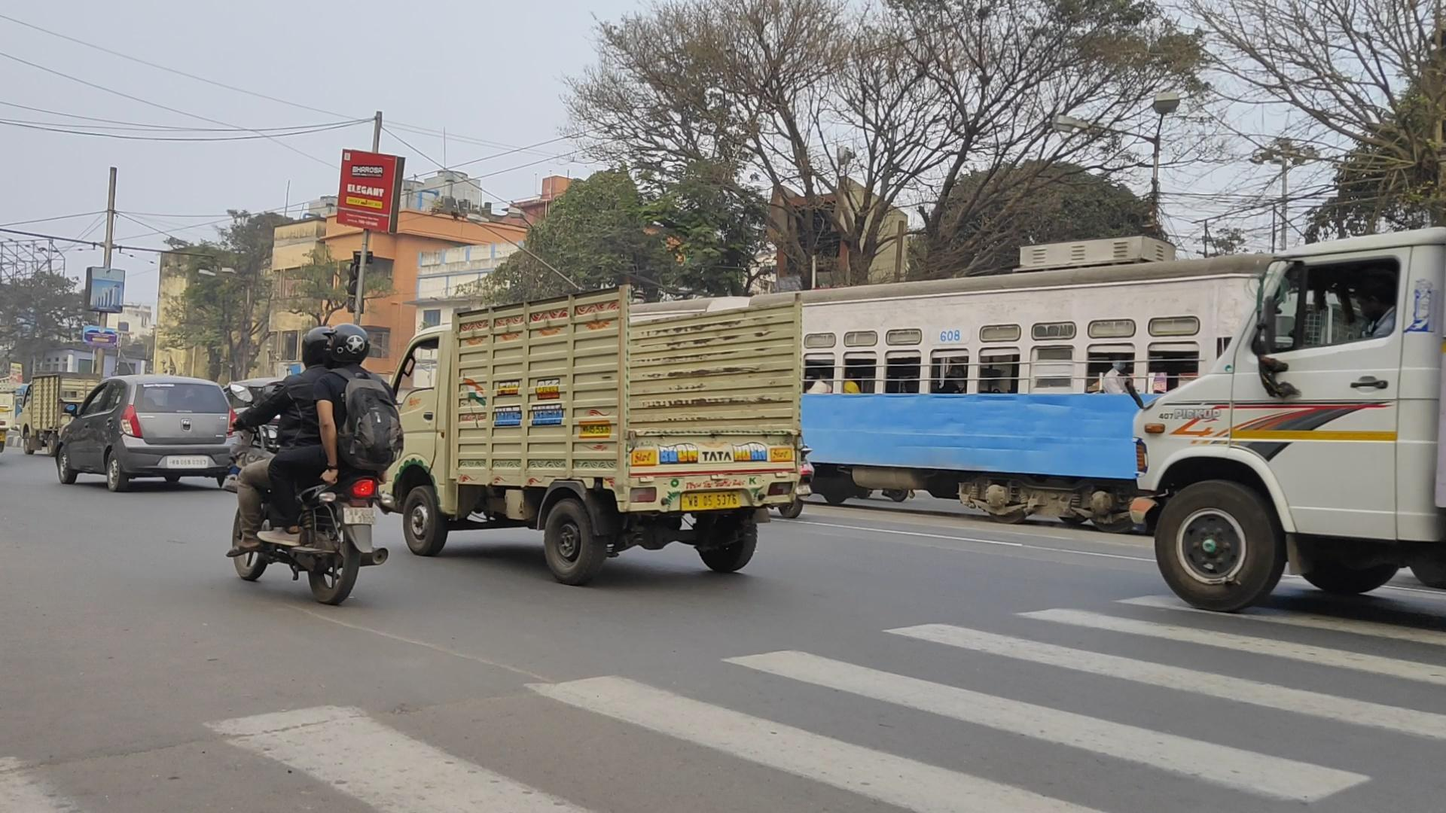bike: (225, 323, 404, 605)
car: (56, 374, 243, 492)
truck: (1136, 225, 1446, 612)
van: (372, 283, 805, 586), (20, 373, 101, 454)
